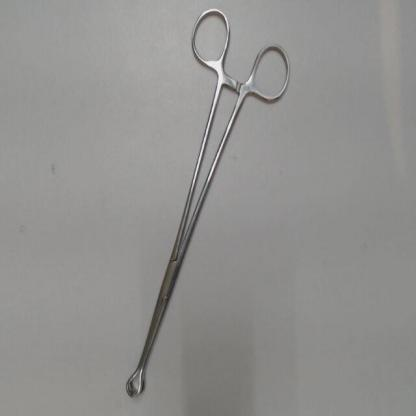8 Babcock Tissue Forceps: (121, 1, 296, 405)
